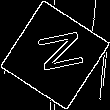N_W: (26, 30, 84, 80)
